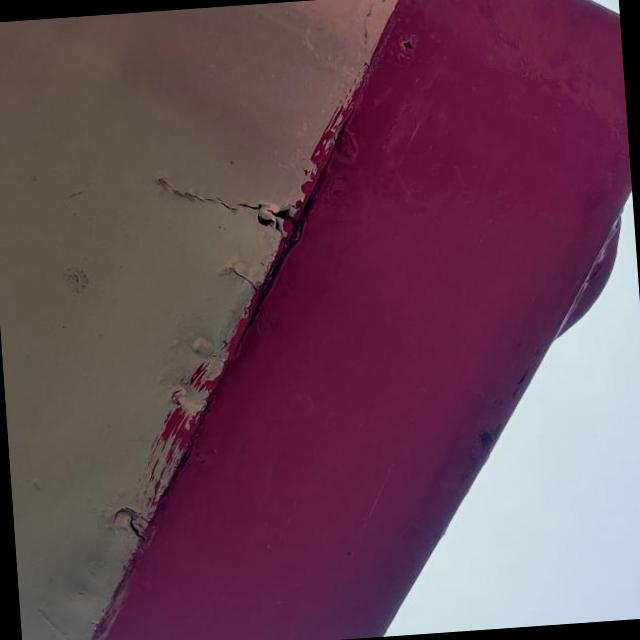crack: (148, 160, 306, 250), (222, 256, 266, 300), (120, 506, 158, 550)
